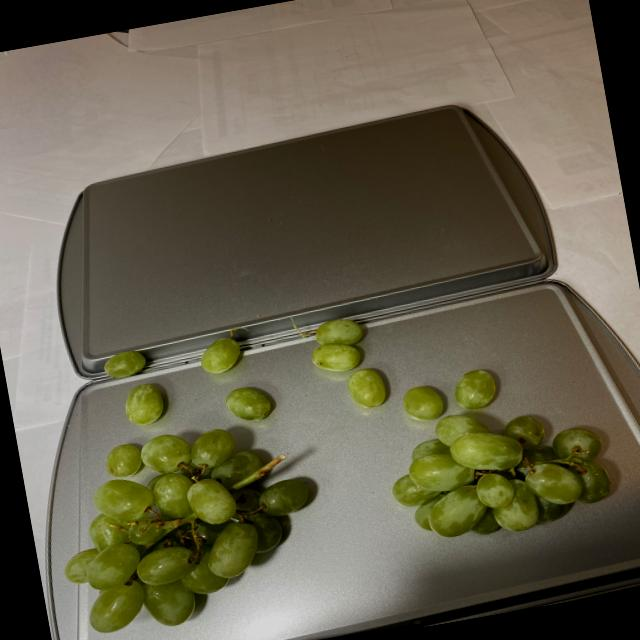grapes: (28, 271, 629, 613)
